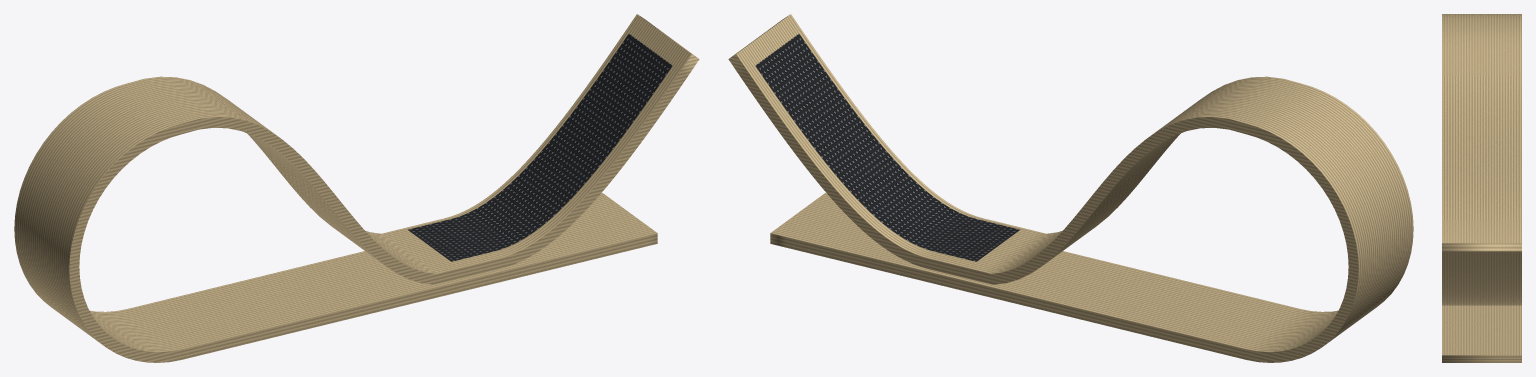
File: nomex-velcro-strap.glb
The picture shows the model from 3 angles, left to right: view 1: azimuth 30°, elevation 25°; view 2: azimuth 150°, elevation 25°; view 3: azimuth 270°, elevation 25°; orthographic projection. The views are drawn at different scales.
Parts seen in each view (by area): view 1: NomexVelcro_Webbing, NomexVelcro_HookFace; view 2: NomexVelcro_Webbing, NomexVelcro_HookFace; view 3: NomexVelcro_Webbing.
Boxes of the visible parts, left/top/right/bottom form: NomexVelcro_Webbing: left=14, top=14, right=699, bottom=362; NomexVelcro_HookFace: left=408, top=34, right=672, bottom=261; NomexVelcro_Webbing: left=728, top=14, right=1413, bottom=362; NomexVelcro_HookFace: left=755, top=34, right=1019, bottom=261; NomexVelcro_Webbing: left=1442, top=14, right=1521, bottom=362.
Bounding box in the file's own units: 0.1988 × 0.0723 × 0.03.
Materials: 3 (3 with a texture image).
